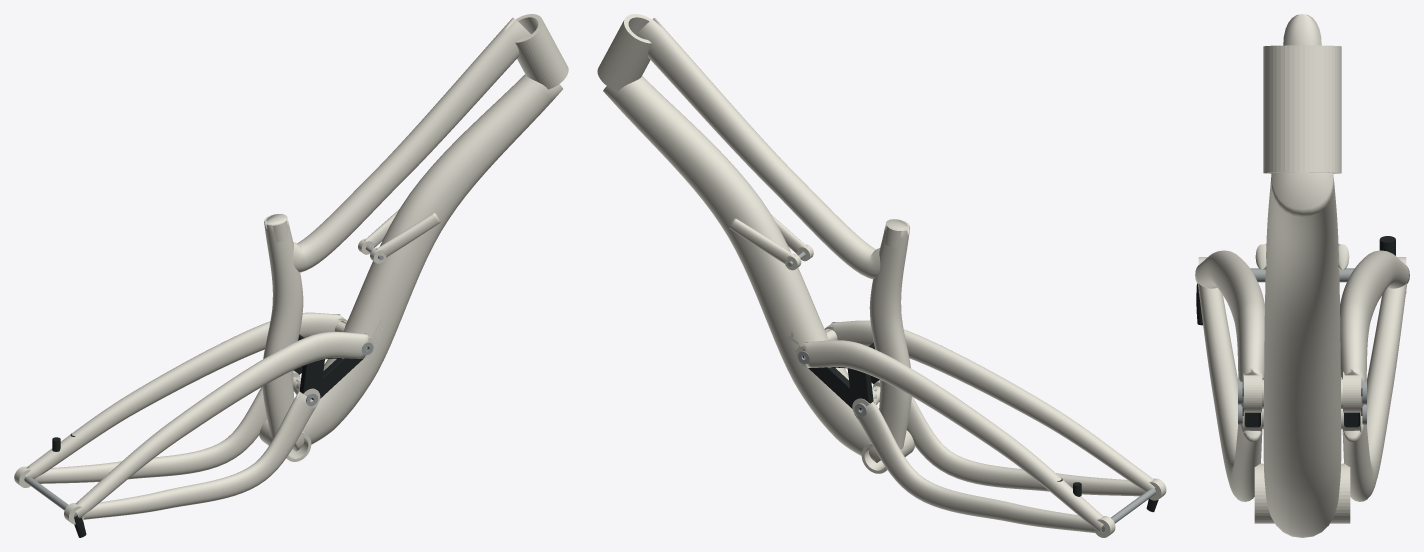
The model's file is yt-tues-mk4-carbon--m.glb.
The picture shows the model from 3 angles, left to right: view 1: azimuth 30°, elevation 25°; view 2: azimuth 150°, elevation 25°; view 3: azimuth 270°, elevation 25°; orthographic projection. The views are drawn at different scales.
Visible parts, largest first — view 1: yt-tues-mk4-carbon__paint_0, yt-tues-mk4-carbon__detail_1, yt-tues-mk4-carbon__detail_2; view 2: yt-tues-mk4-carbon__paint_0, yt-tues-mk4-carbon__detail_1, yt-tues-mk4-carbon__detail_2; view 3: yt-tues-mk4-carbon__paint_0, yt-tues-mk4-carbon__detail_1, yt-tues-mk4-carbon__detail_2.
Boxes of the visible parts, bbox=[...] form: yt-tues-mk4-carbon__paint_0: bbox=[14, 14, 568, 524]; yt-tues-mk4-carbon__detail_1: bbox=[52, 334, 368, 537]; yt-tues-mk4-carbon__detail_2: bbox=[24, 246, 383, 516]; yt-tues-mk4-carbon__paint_0: bbox=[597, 14, 1166, 537]; yt-tues-mk4-carbon__detail_1: bbox=[803, 343, 1158, 512]; yt-tues-mk4-carbon__detail_2: bbox=[787, 252, 1155, 531]; yt-tues-mk4-carbon__paint_0: bbox=[1195, 14, 1409, 537]; yt-tues-mk4-carbon__detail_1: bbox=[1196, 236, 1395, 427]; yt-tues-mk4-carbon__detail_2: bbox=[1238, 268, 1366, 424].
Size of the model in its own units: 0.9985 by 0.7142 by 0.1863.
Materials: 5 (2 with a texture image).
